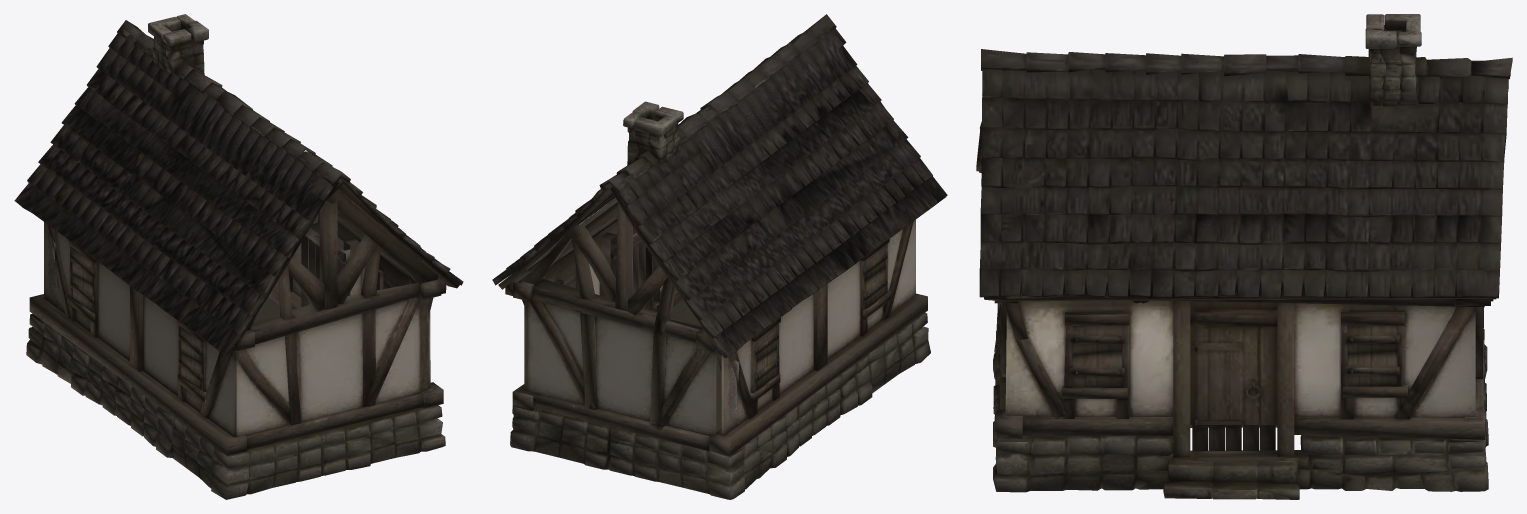
File: house.glb
3 views of the same model, side by side, from view 1: azimuth 30°, elevation 25°; view 2: azimuth 150°, elevation 25°; view 3: azimuth 270°, elevation 25° (orthographic). The views are drawn at different scales.
Visible parts, largest first — view 1: tripo_node_2e51fa33-a6b2-465d-865a-c9d4cd090b15; view 2: tripo_node_2e51fa33-a6b2-465d-865a-c9d4cd090b15; view 3: tripo_node_2e51fa33-a6b2-465d-865a-c9d4cd090b15.
Part boxes in pixels (x1,y1,x2,y2): tripo_node_2e51fa33-a6b2-465d-865a-c9d4cd090b15: (14,14,463,499); tripo_node_2e51fa33-a6b2-465d-865a-c9d4cd090b15: (492,14,947,499); tripo_node_2e51fa33-a6b2-465d-865a-c9d4cd090b15: (976,14,1512,499).
Bounding box in the file's own units: 0.647 × 0.8325 × 0.9995.
1 material, 1 textured.
